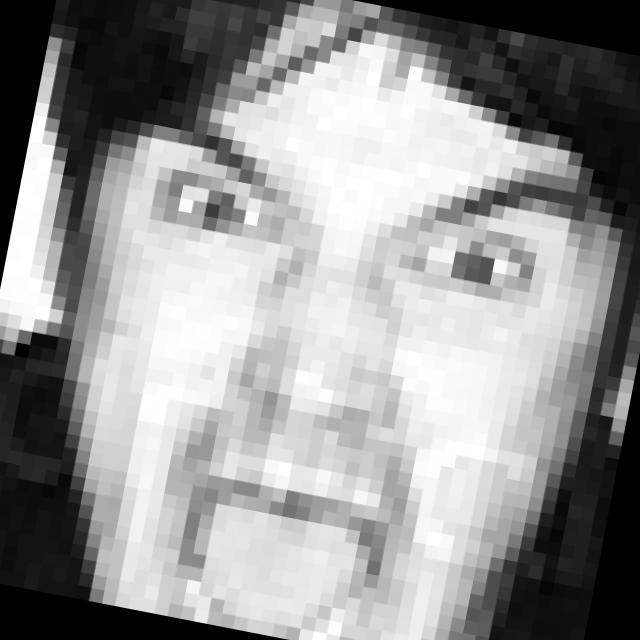angry: (88, 99, 598, 636)
